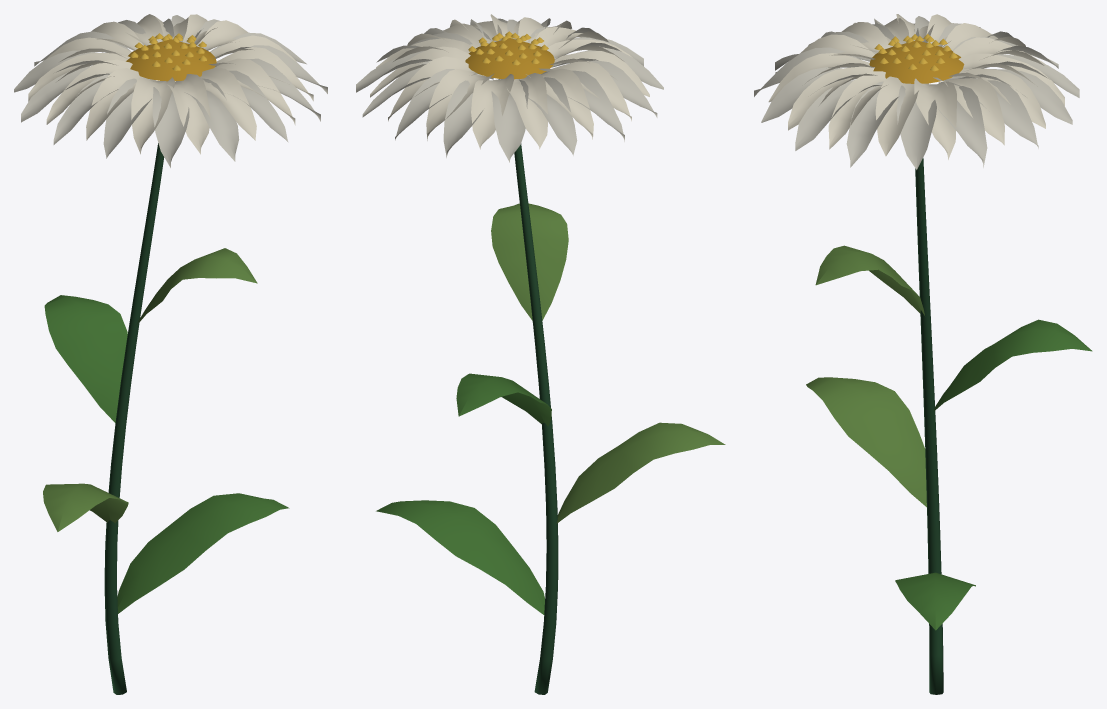
The model's file is meadow_daisy.hi.glb.
The picture shows the model from 3 angles, left to right: view 1: azimuth 30°, elevation 25°; view 2: azimuth 150°, elevation 25°; view 3: azimuth 270°, elevation 25°; orthographic projection. The views are drawn at different scales.
Visible parts, largest first — view 1: body; view 2: body; view 3: body.
Part boxes in pixels (box(x1,y1,x2,y2)): body: box(14, 14, 327, 694); body: box(356, 14, 725, 694); body: box(754, 14, 1092, 694).
Bounding box in the file's own units: 0.222 × 0.4555 × 0.207.
